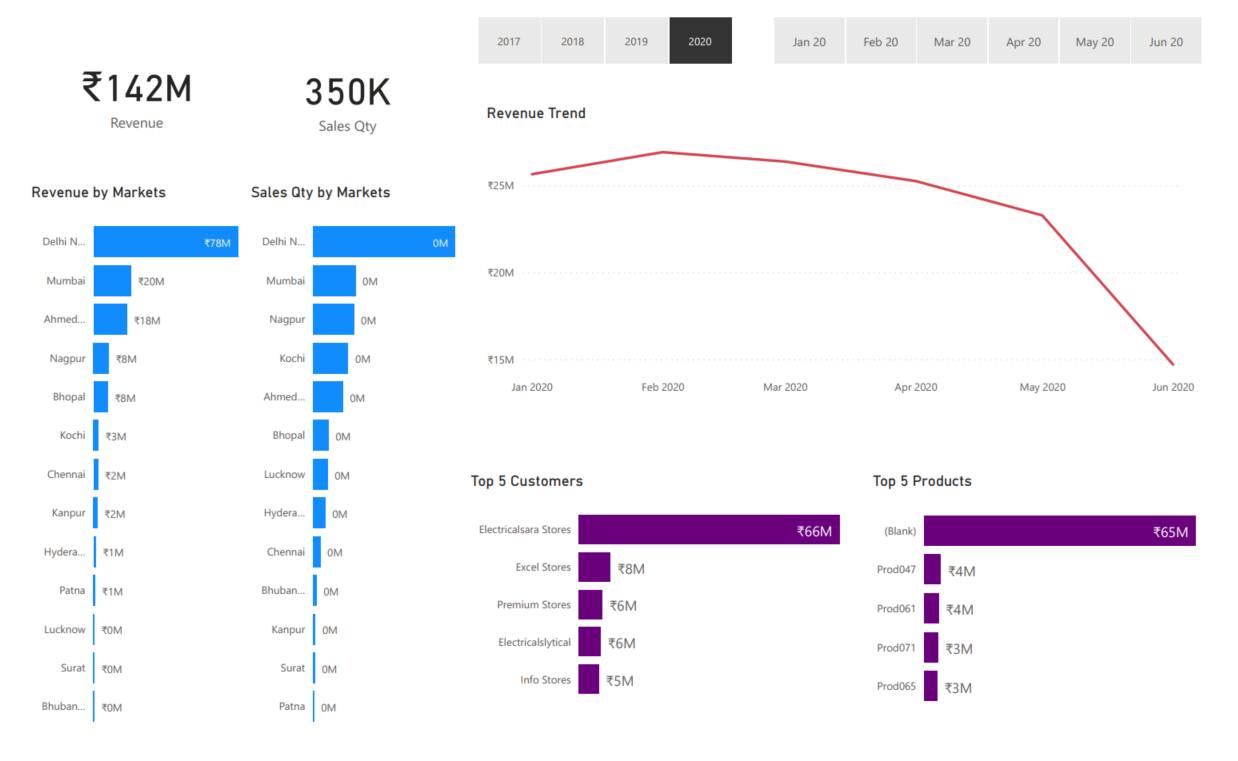

What the dashboard file says about the page in this screenshot:
{"tool":"powerbi","page":{"name":"Key Insights","canvas":[1350,850],"ordinal":0},"visuals":[{"type":"card","fields":{"Values":["BaseMeasures (2).Revenue"]},"box":[0,0,247.9,184.6],"z":0},{"type":"card","fields":{"Values":["BaseMeasures (2).Sales Qty"]},"box":[247.9,0,227.9,193.1],"z":1000},{"type":"barChart","title":"Revenue by Markets","fields":{"Y":["BaseMeasures (2).Revenue"],"Category":["sales markets.markets_name"]},"box":[0,193.1,247.9,631.9],"z":2000},{"type":"barChart","title":"Sales Qty by Markets","fields":{"Y":["BaseMeasures (2).Sales Qty"],"Category":["sales markets.markets_name"]},"box":[247.9,193.1,247.9,631.9],"z":3000},{"type":"slicer","fields":{"Values":["sales date.year"]},"box":[483.2,0,335.5,66.5],"z":4000},{"type":"slicer","fields":{"Values":["sales date.cy_date"]},"box":[818.6,0,531.7,66.5],"z":5000},{"type":"barChart","title":"Top 5 Customers","fields":{"Y":["BaseMeasures (2).Revenue"],"Category":["sales customers.custmer_name"]},"box":[495.8,519,446.2,274.3],"z":6000},{"type":"barChart","title":"Top 5 Products","fields":{"Y":["BaseMeasures (2).Revenue"],"Category":["sales products.product_code"]},"box":[950.7,519.2,399.5,282.8],"z":7000},{"type":"lineChart","title":"Revenue Trend","fields":{"Y":["BaseMeasures (2).Revenue"],"Category":["sales date.cy_date"]},"box":[513.8,104.4,809.1,338.6],"z":8000}]}

Visuals, with their boxes in screenshot pixels (x1, y1, x2, y2), scaled from the page's 1350x850 canvas onto the 1238x761 screenshot:
card - BaseMeasures (2).Revenue: left=0, top=0, right=227, bottom=165
card - BaseMeasures (2).Sales Qty: left=227, top=0, right=436, bottom=173
"Revenue by Markets" barChart: left=0, top=173, right=227, bottom=739
"Sales Qty by Markets" barChart: left=227, top=173, right=455, bottom=739
slicer - sales date.year: left=443, top=0, right=751, bottom=60
slicer - sales date.cy_date: left=751, top=0, right=1237, bottom=60
"Top 5 Customers" barChart: left=455, top=465, right=864, bottom=710
"Top 5 Products" barChart: left=872, top=465, right=1237, bottom=718
"Revenue Trend" lineChart: left=471, top=93, right=1213, bottom=397
